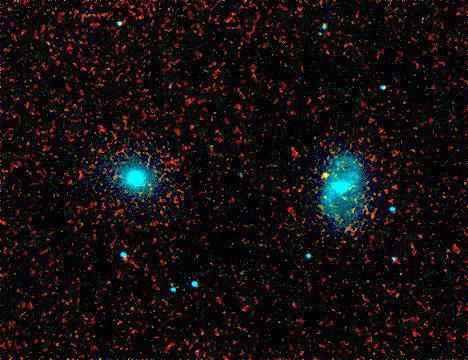star: (310, 160, 340, 190)
